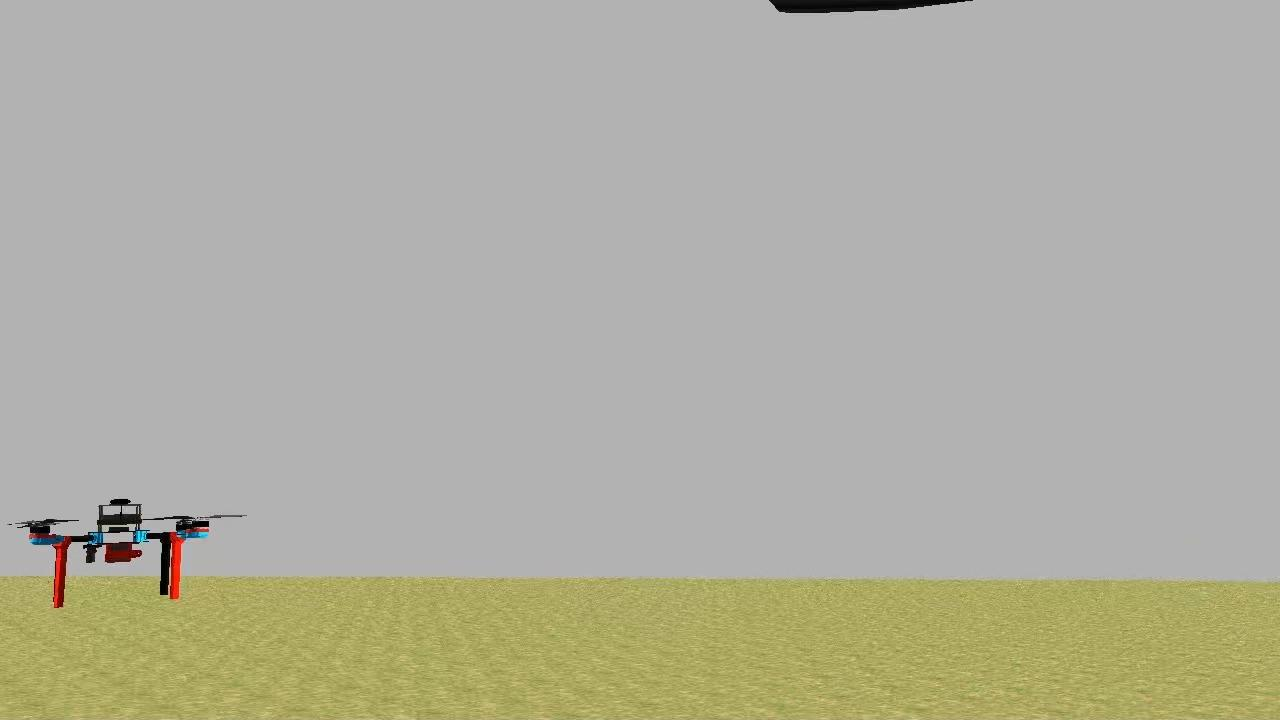UAV: (20, 490, 216, 614)
